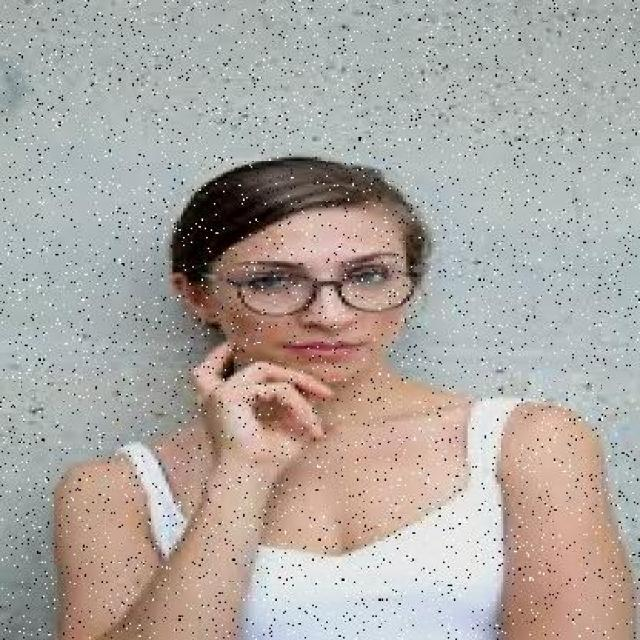mask: (226, 249, 424, 326)
